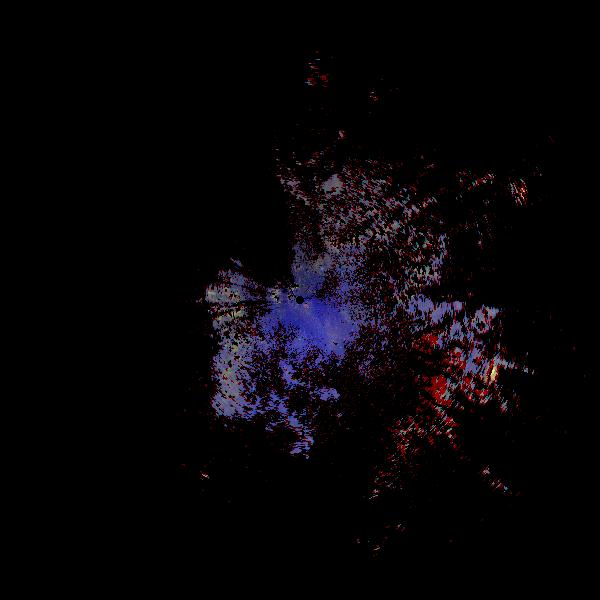roost: (265, 413, 313, 461)
